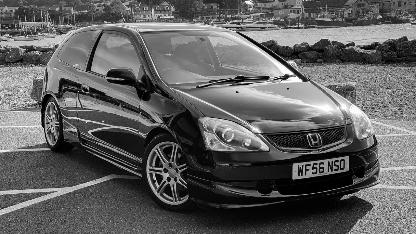license plate: (288, 155, 352, 181)
